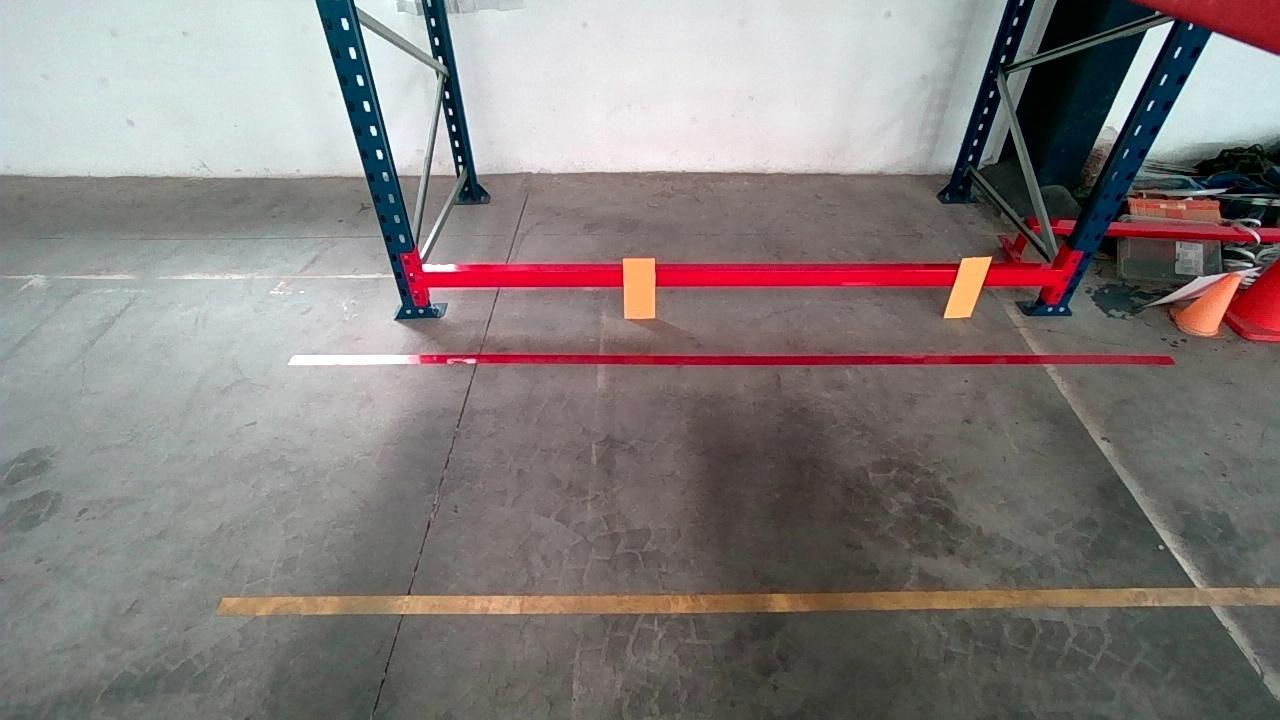h_rack: (425, 263, 1053, 288)
orange_strip: (945, 256, 995, 317), (624, 256, 657, 318)
red_line: (296, 348, 1168, 374)
yellow_line: (232, 578, 1259, 623)
